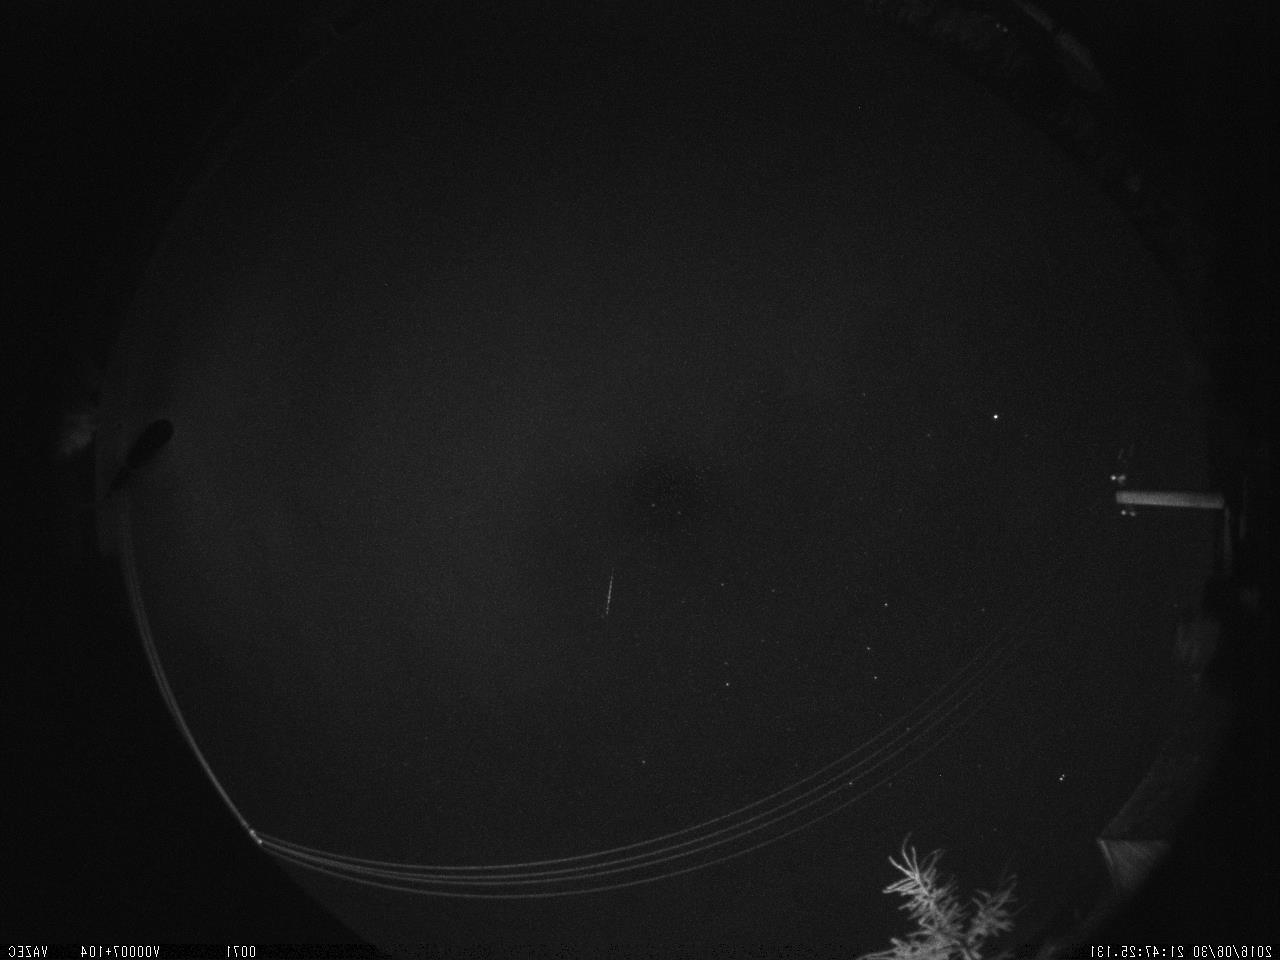meteor: (583, 553, 627, 632)
